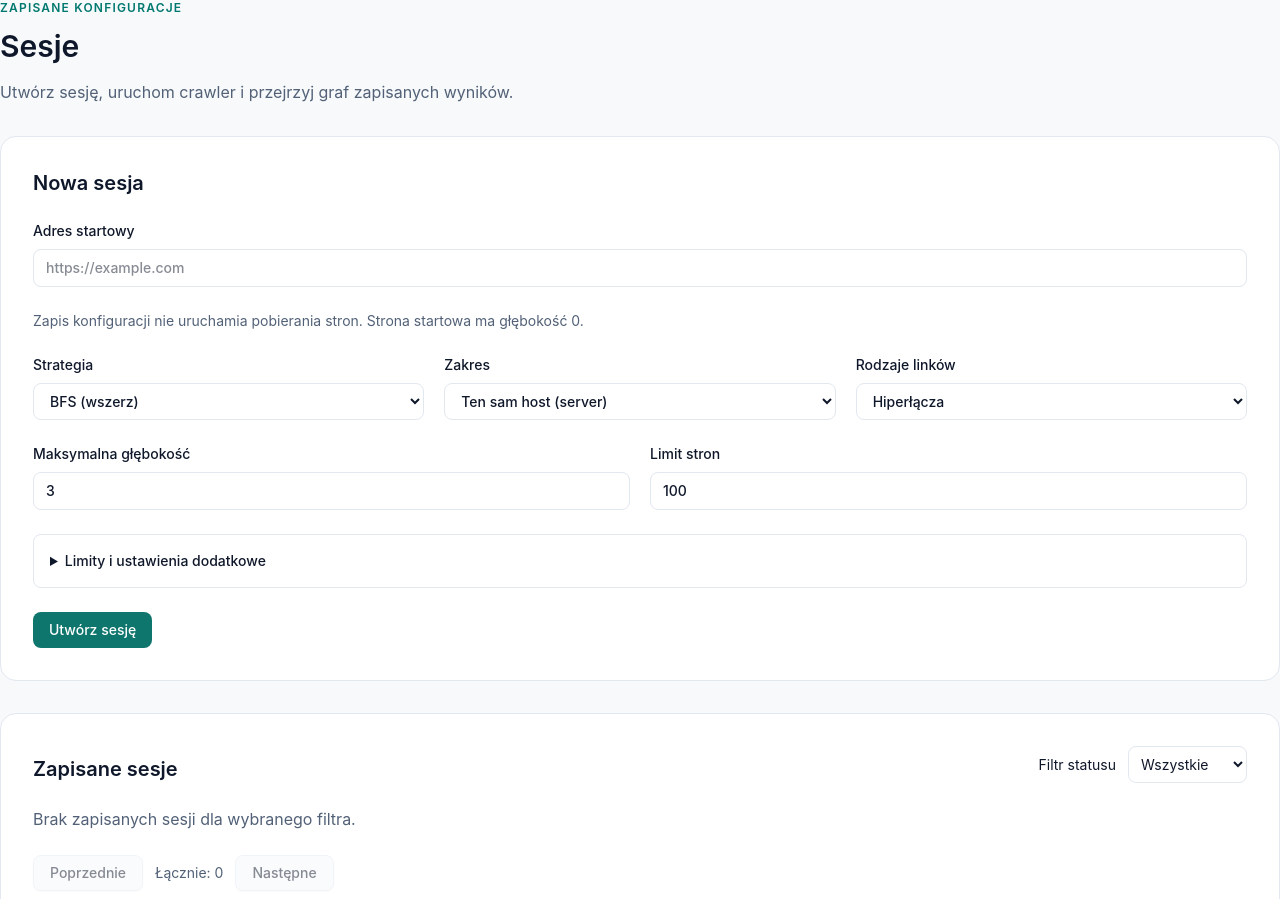
Test case: sessions UI › shows empty list, creates session and reads persisted config
Expected: the text "Brak zapisanych sesji dla wybranego filtra." is shown, [33,809,356,829]
Type "https://example.com/" into the field labelled "Adres startowy" at (640, 268), box [33,249,1247,287]
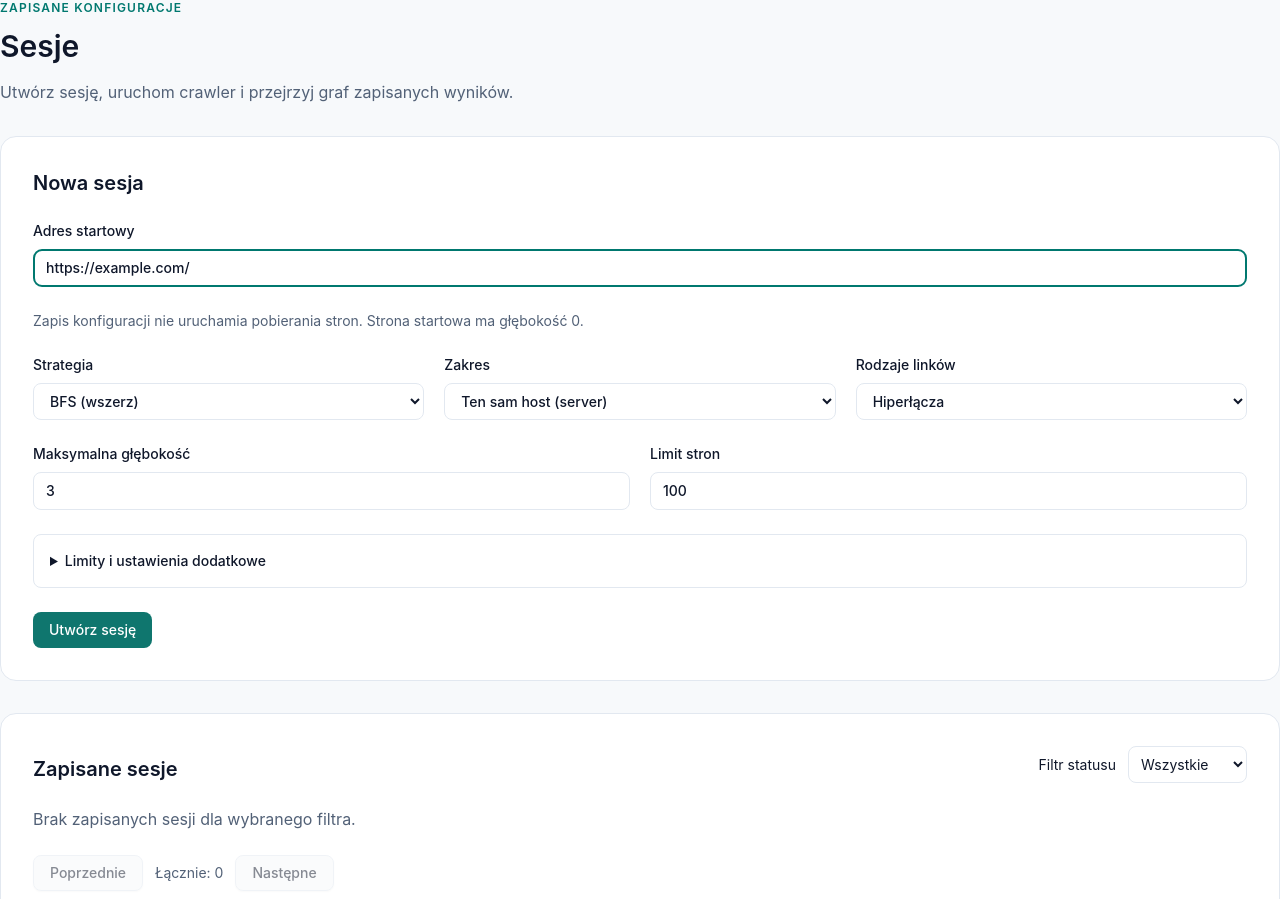
Select "DFS (w głąb)" in the dropdown labelled "Strategia" at (229, 402), box [33,383,424,420]
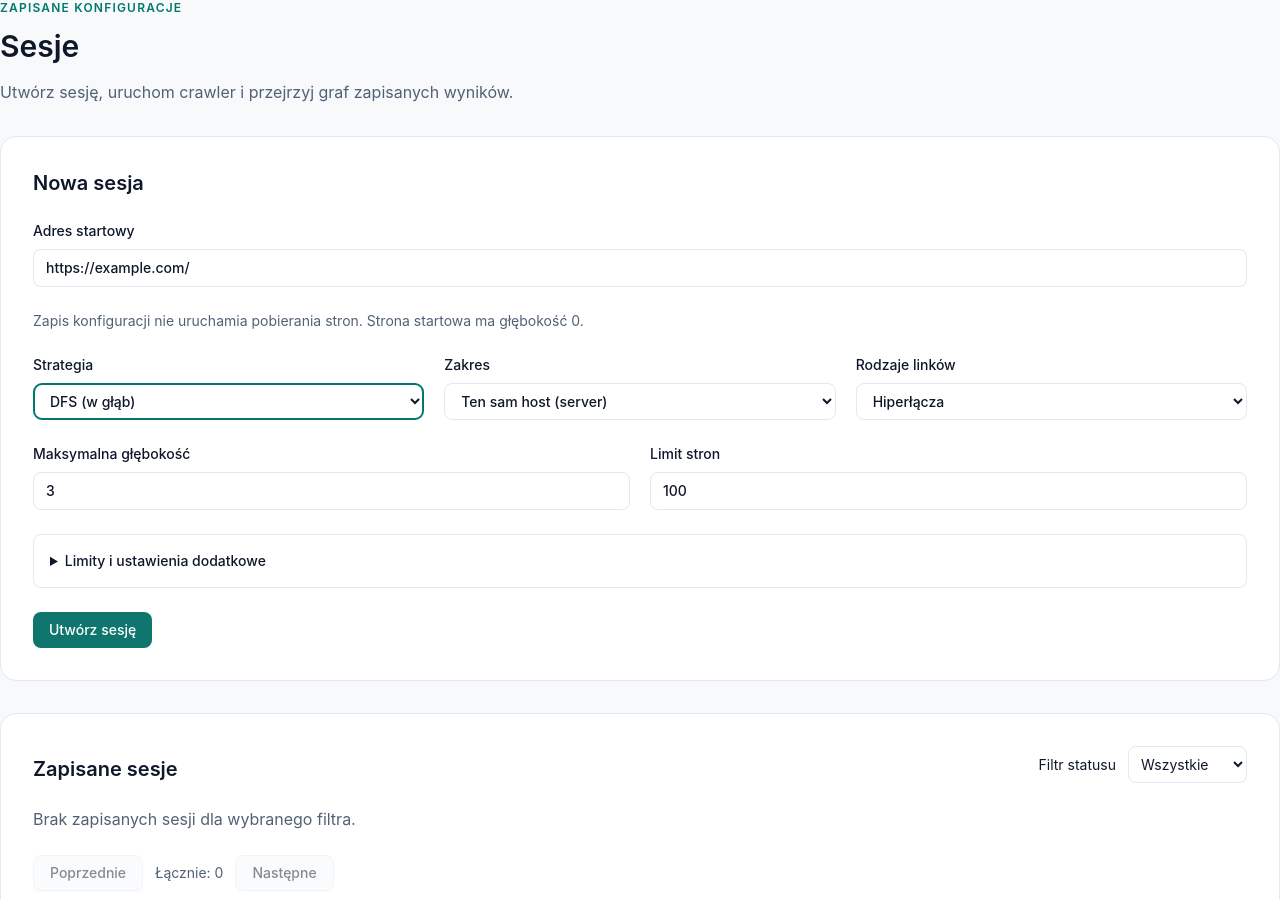
Replace the text in the number field labelled "Maksymalna głębokość" with "2" at (332, 491), box [33,472,630,510]
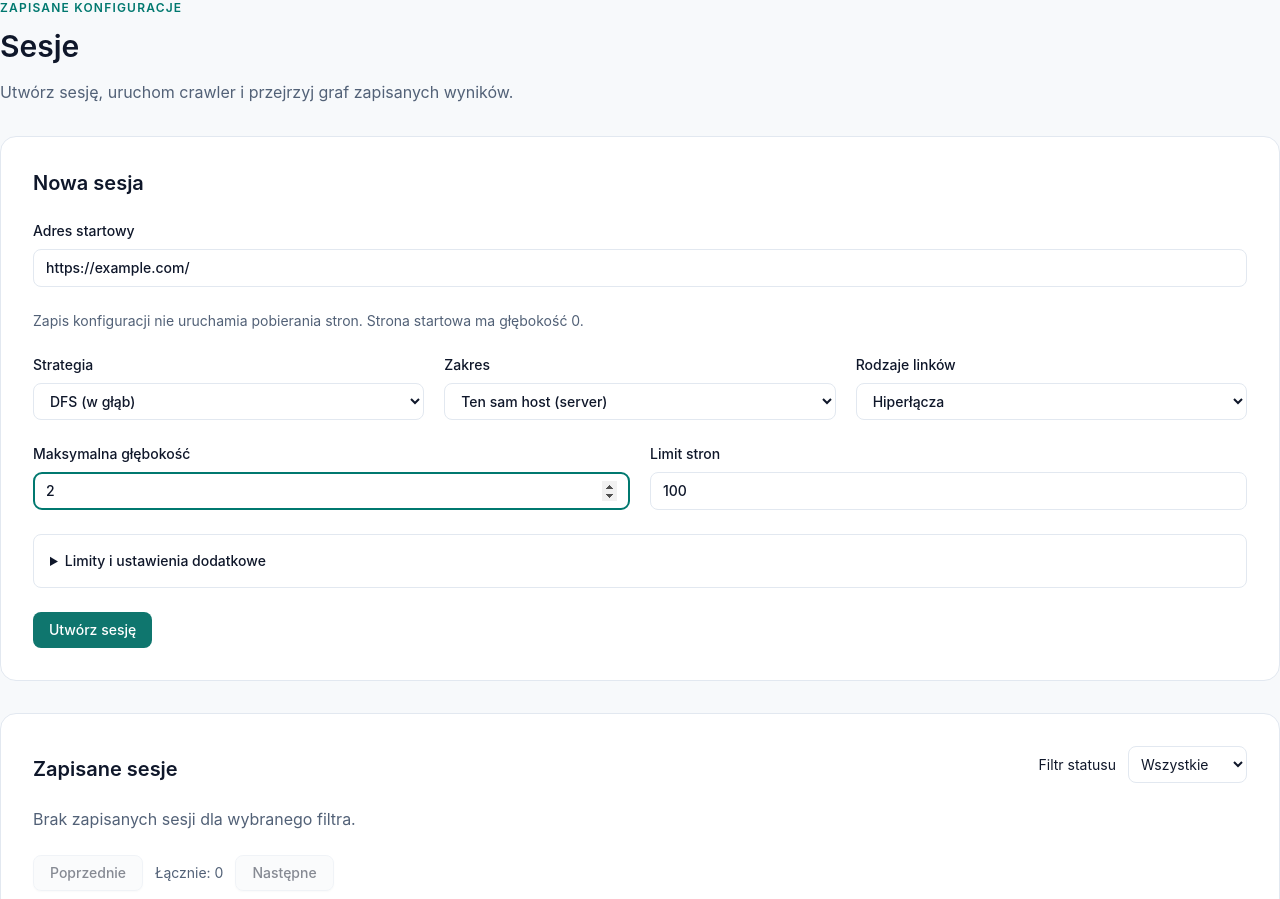
Click the button "Utwórz sesję" at (93, 630), box [33,612,152,648]
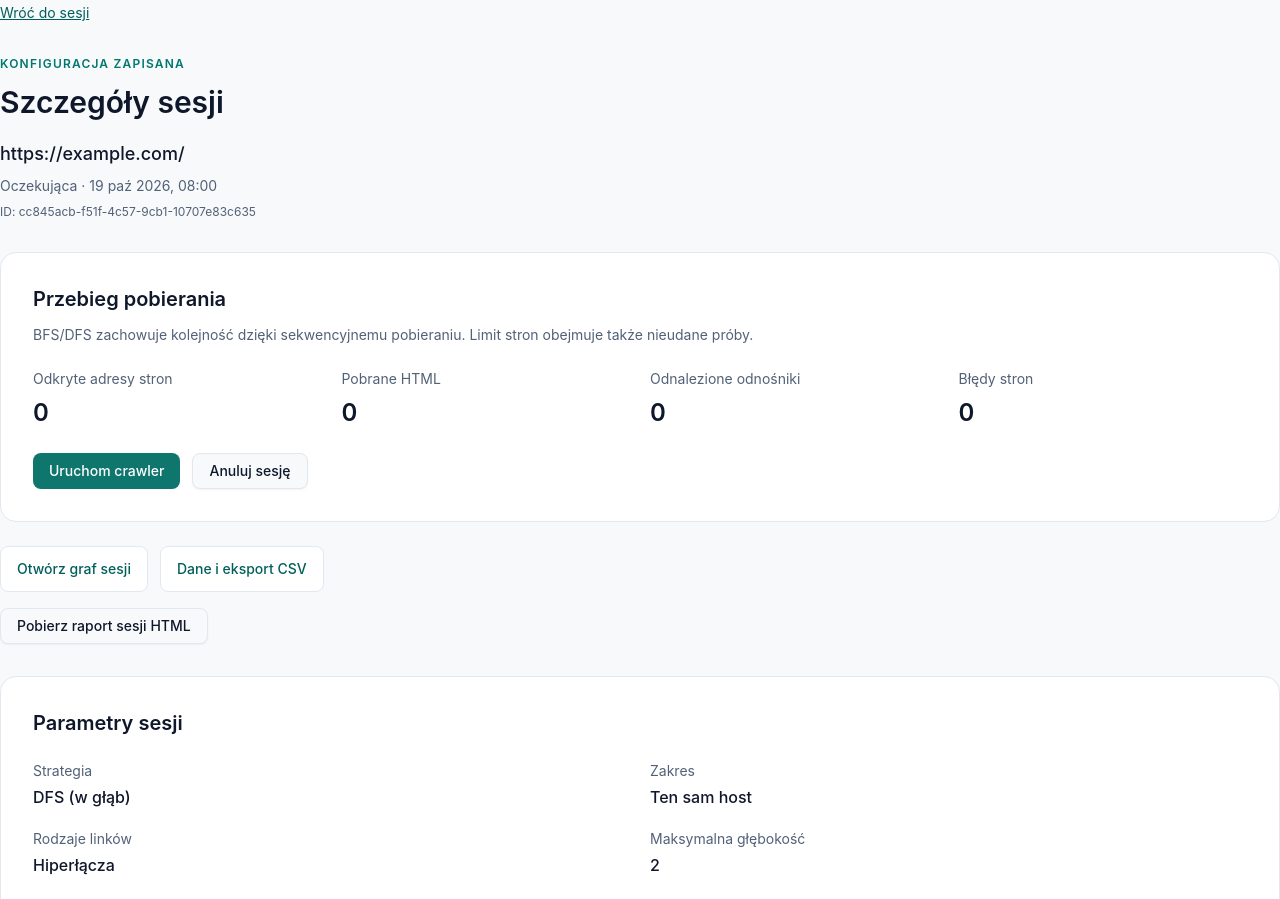
Result: the heading "Szczegóły sesji" is shown at [0,84,224,120]
Result: the text "DFS (w głąb)" is shown at [33,787,131,807]
